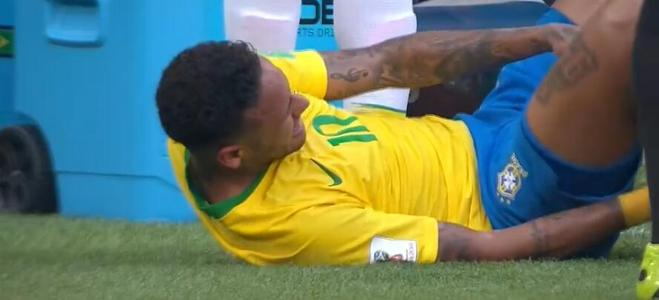fall: (162, 3, 642, 272)
